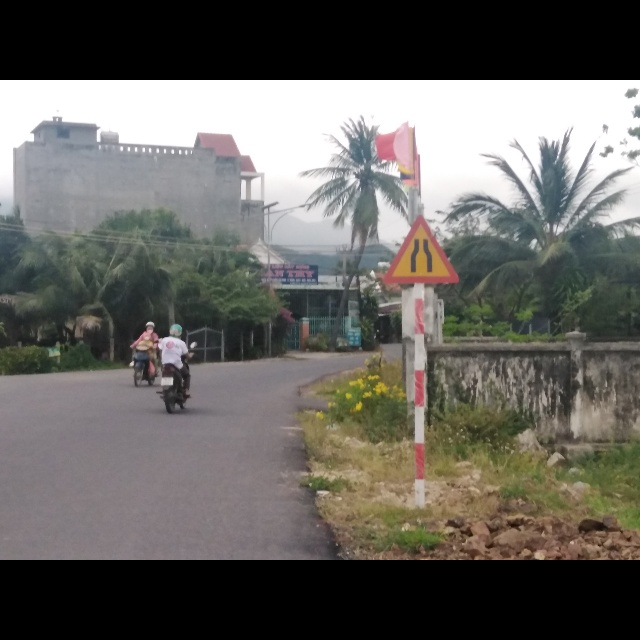Đường bị hẹp cả hai bên: (380, 214, 460, 285)
